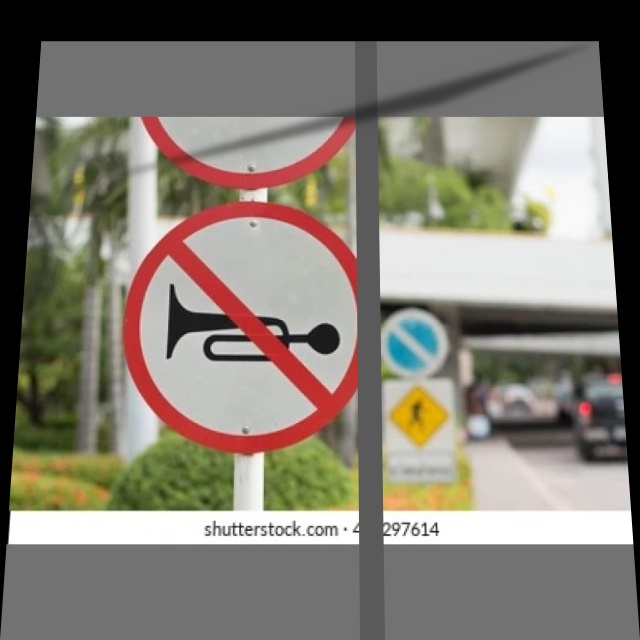Horn_Prohibited: (116, 203, 377, 450)
